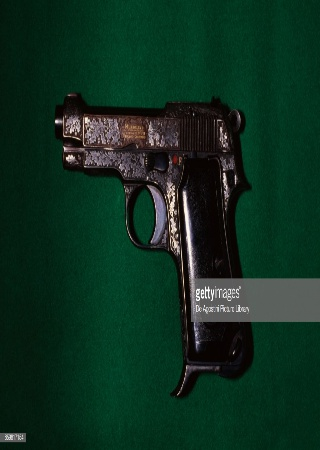handgun: (51, 89, 257, 386)
